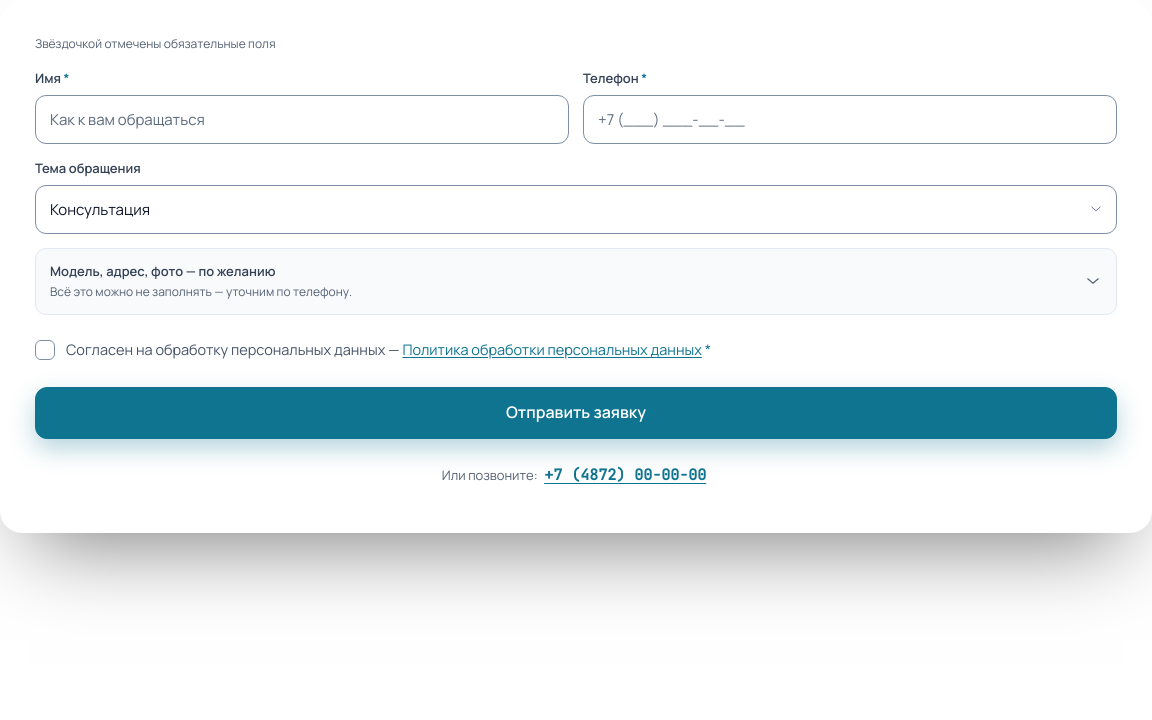
Test: LeadForm › ловит некорректный телефон до отправки и ведёт к нему фокус
The width and height of the screenshot is (1152, 720).
Step 1. Type "Ирина" into the field labelled "Имя *" → x=302, y=119, box left=35, top=95, right=569, bottom=144
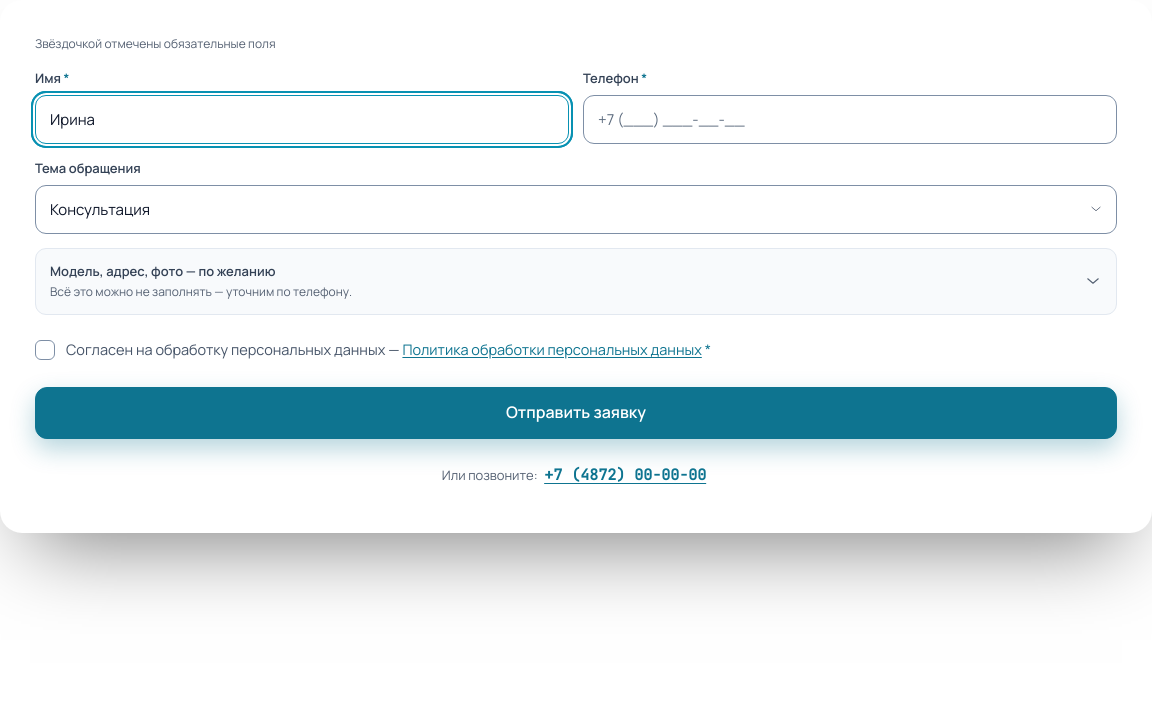
Step 2. Type "12-34" into the field labelled "Телефон *" → x=850, y=119, box left=583, top=95, right=1117, bottom=144
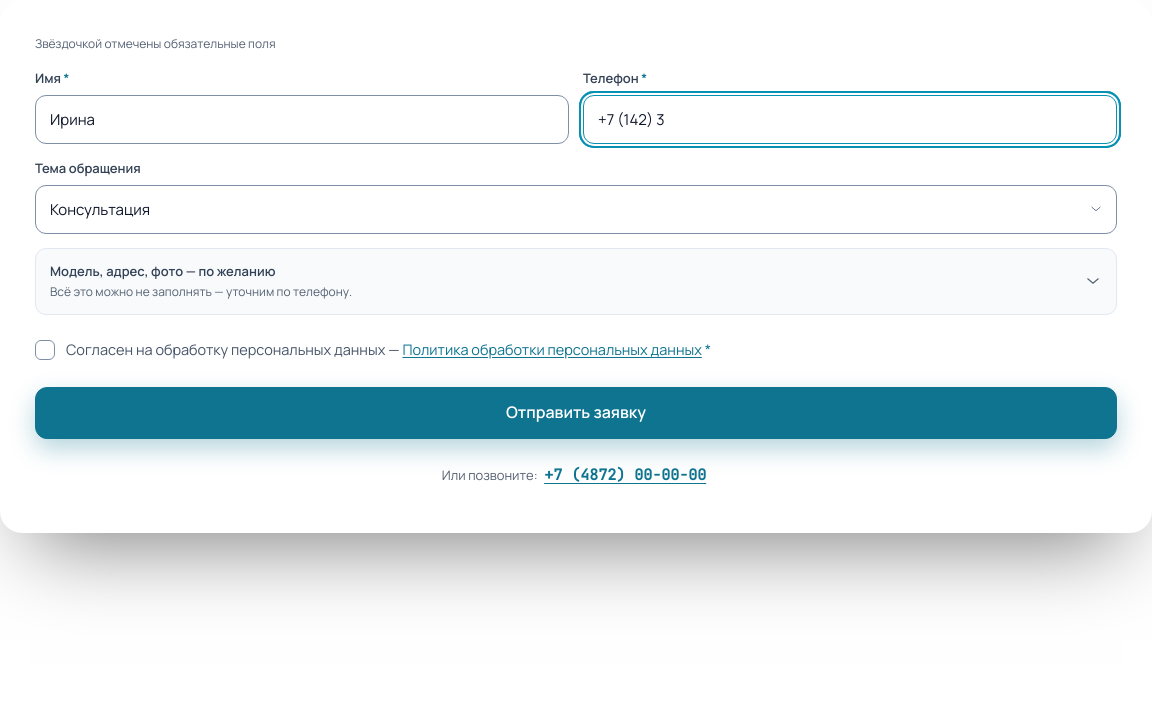
Step 3. Click the checkbox → x=45, y=350, box left=35, top=340, right=55, bottom=360
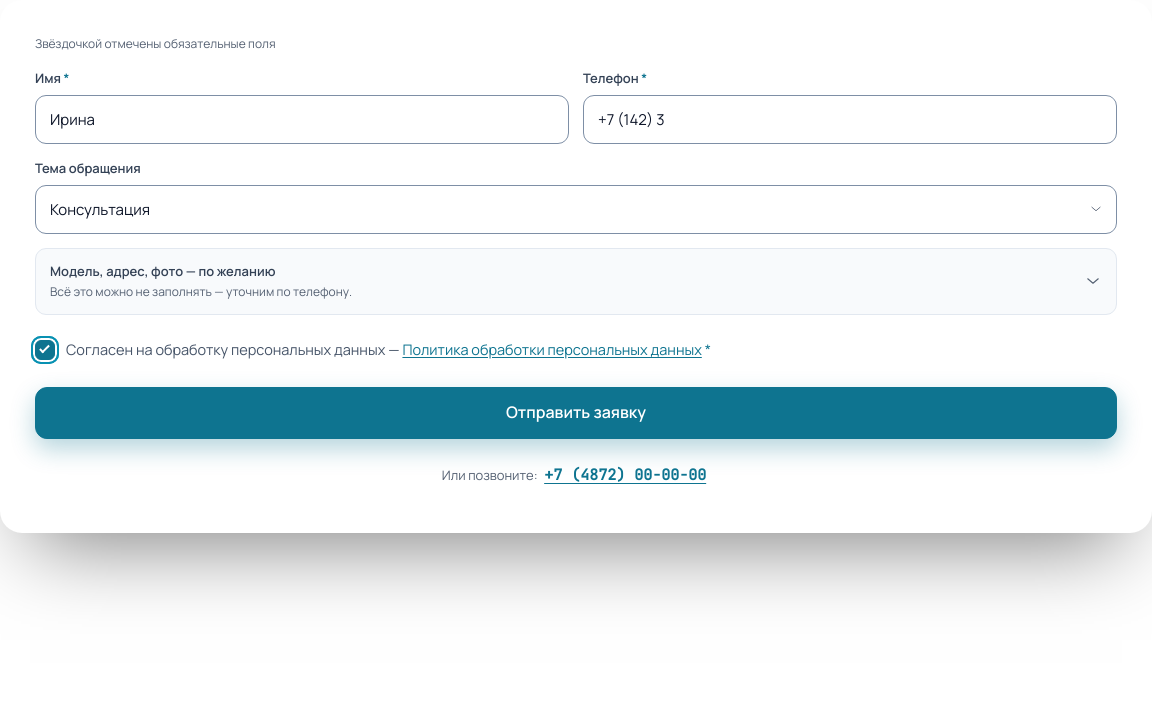
Step 4. Click the button "Отправить заявку" → x=576, y=413, box left=35, top=387, right=1117, bottom=439
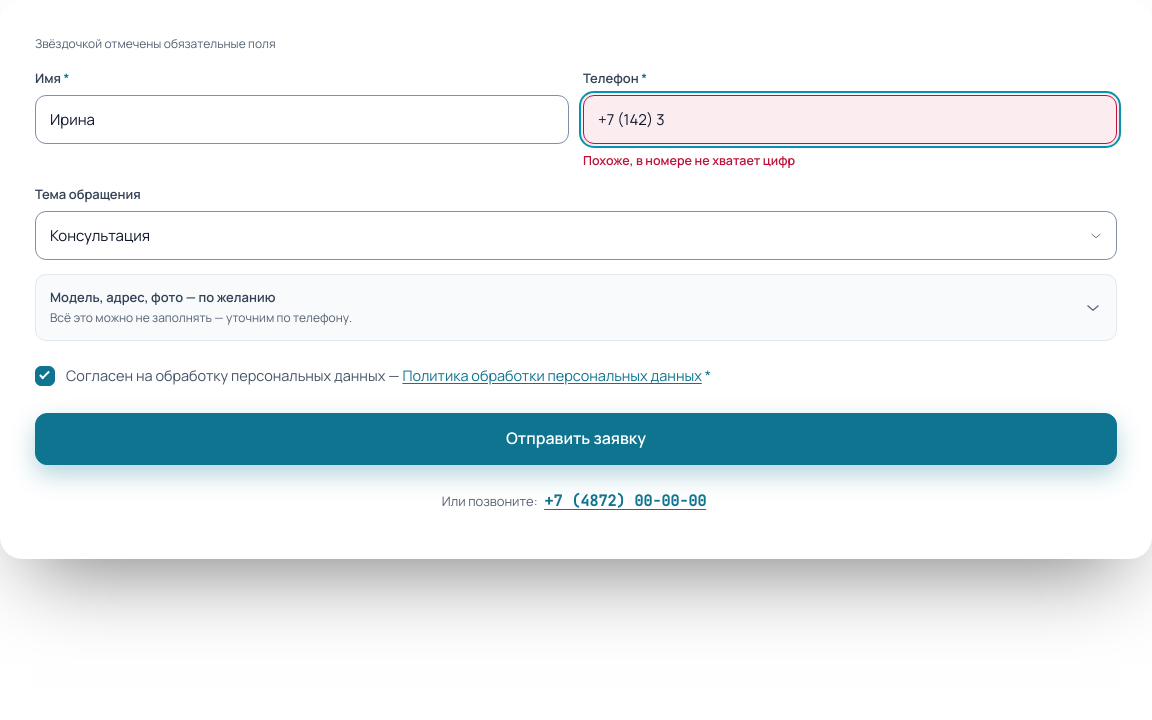
Expected: the text "Похоже, в номере не хватает цифр" is shown, left=583, top=152, right=795, bottom=169
